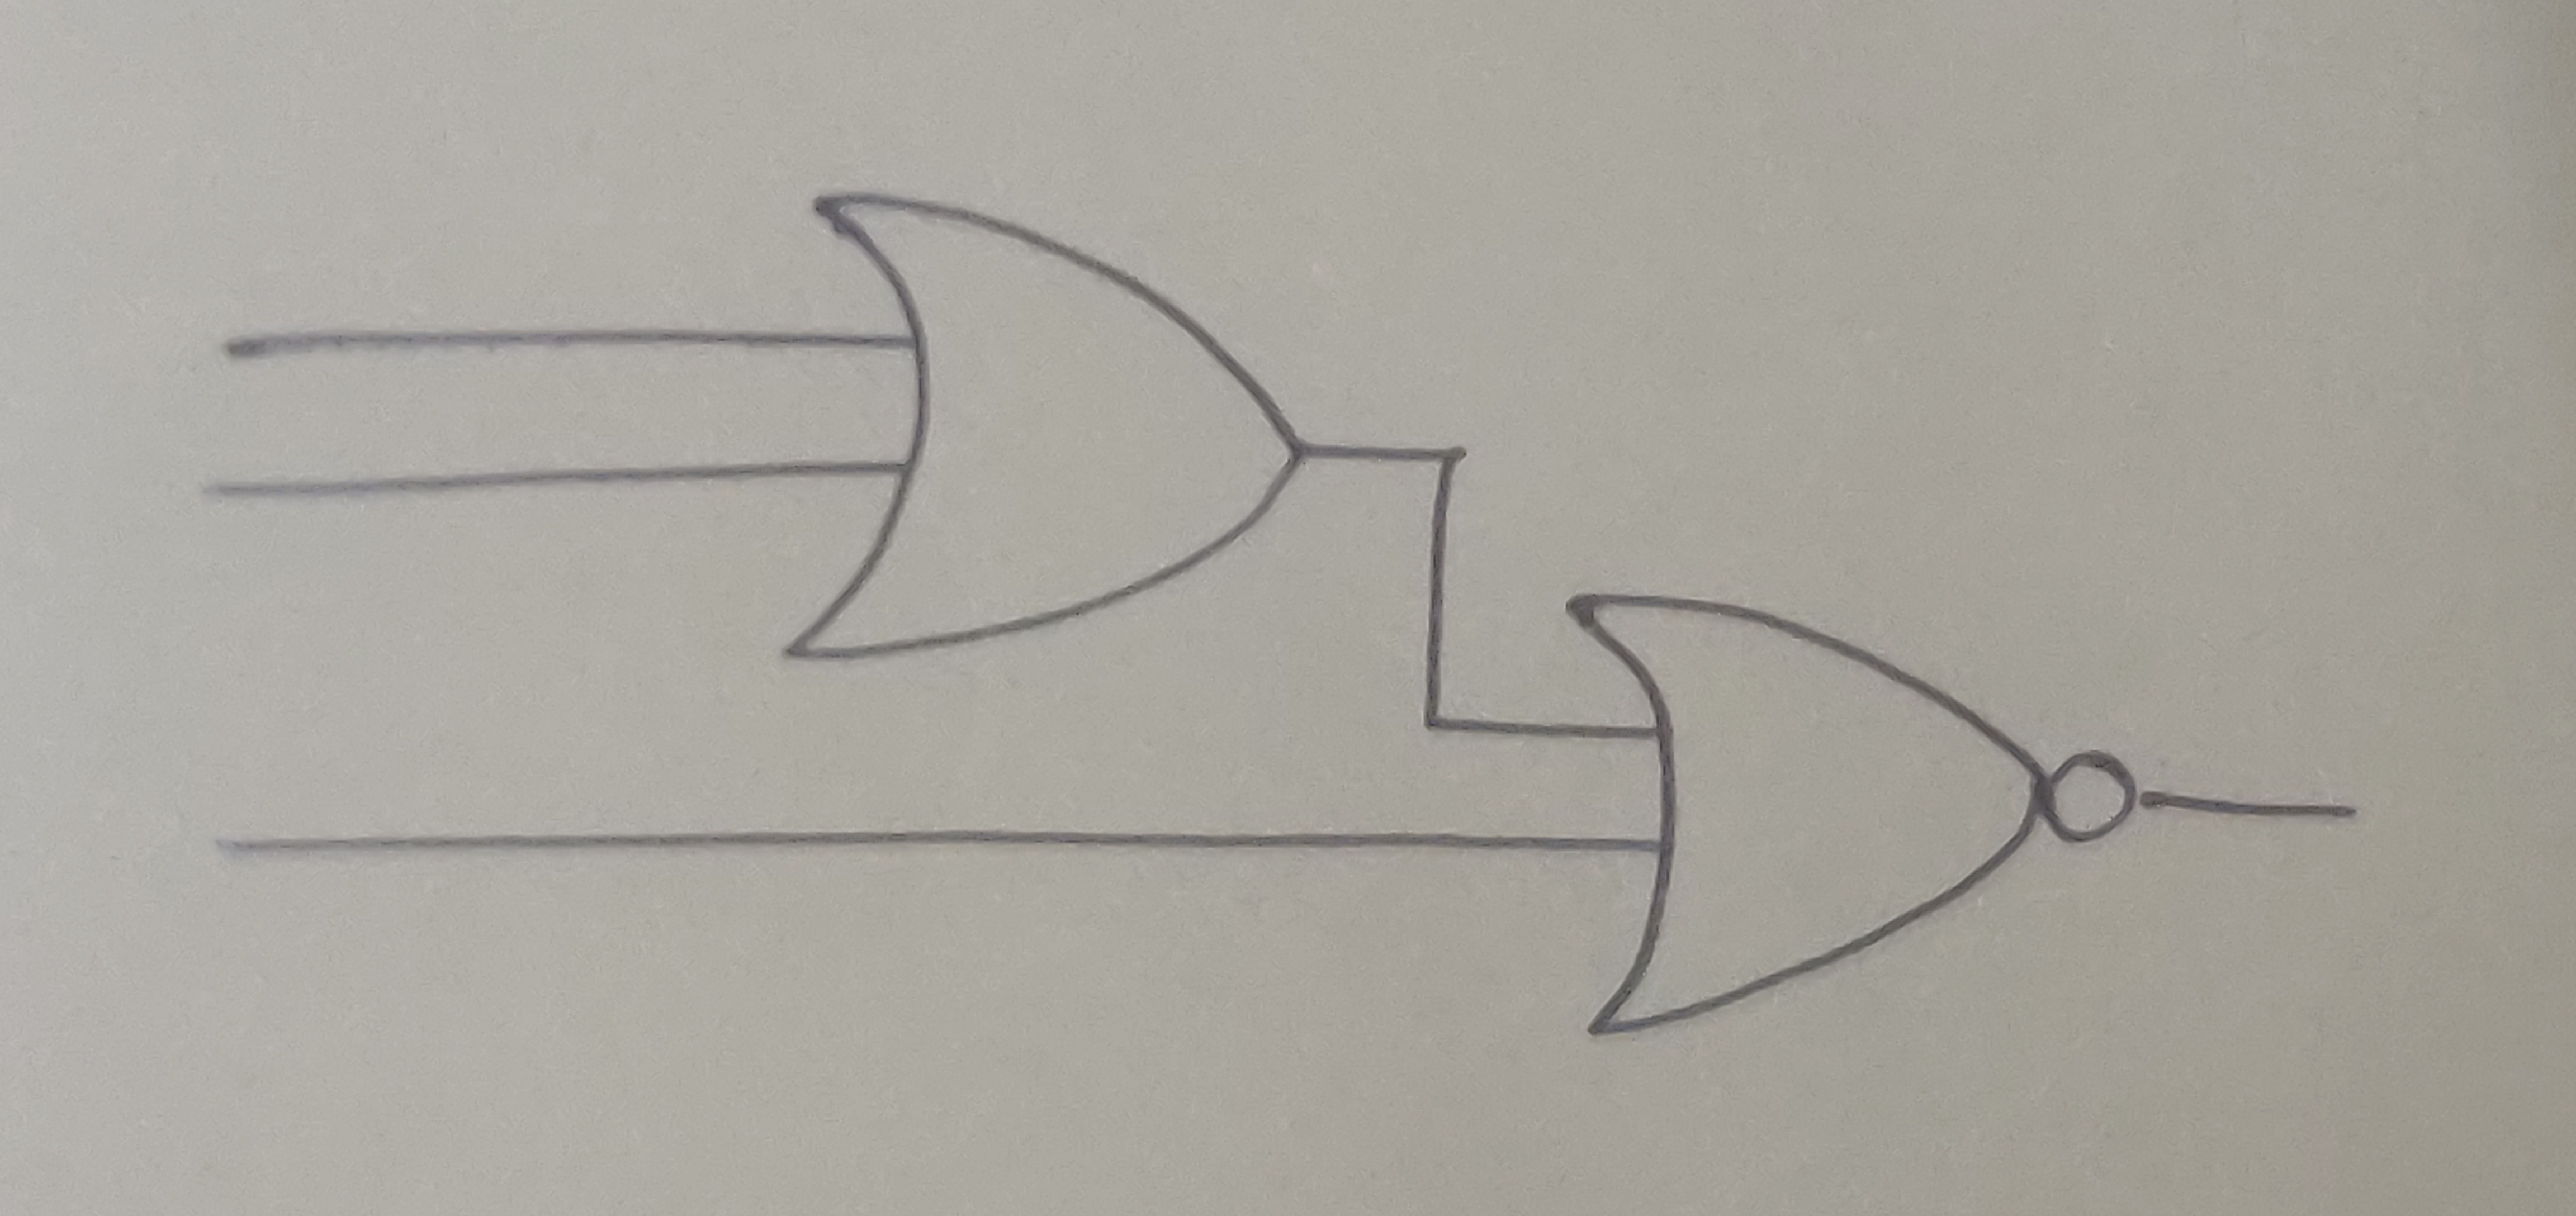not: (2044, 753, 2146, 851)
or: (795, 194, 1311, 661), (1564, 592, 2044, 1042)
